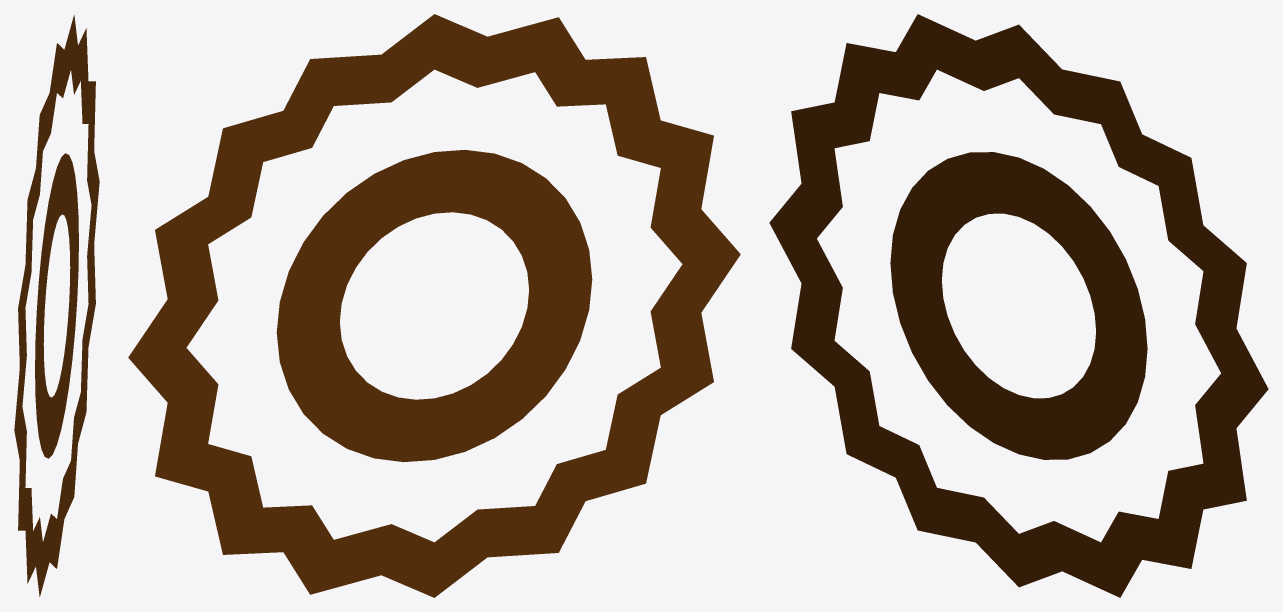
Rendered from earth_symbol.fbx.
The picture shows the model from 3 angles, left to right: view 1: azimuth 30°, elevation 25°; view 2: azimuth 150°, elevation 25°; view 3: azimuth 270°, elevation 25°; orthographic projection. The views are drawn at different scales.
Parts seen in each view (by area): view 1: Circle; view 2: Circle; view 3: Circle.
Boxes of the visible parts, x1,y1,x2,y2 form: Circle: (14, 15, 99, 596); Circle: (128, 14, 740, 597); Circle: (769, 14, 1268, 597).
Size of the model in its own units: 139 by 220 by 177.
